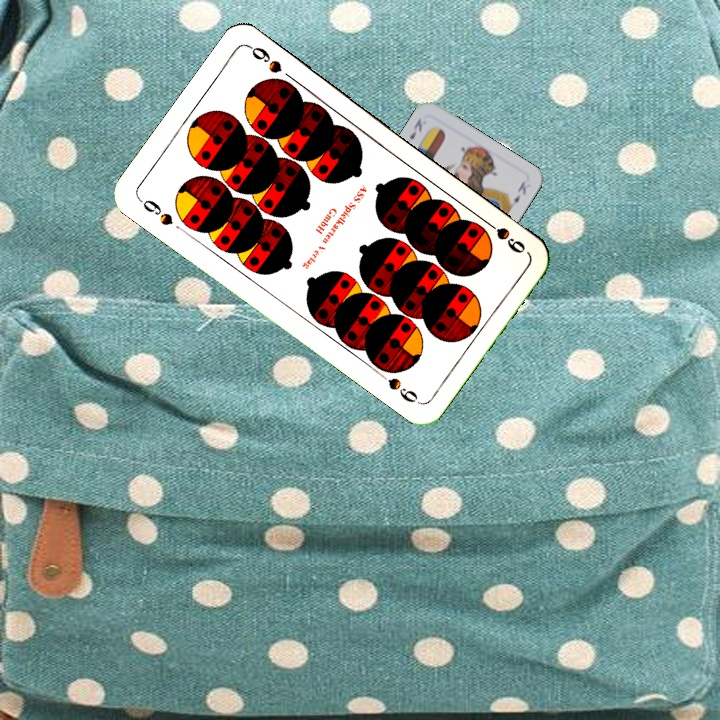EK: (405, 114, 425, 142)
S9: (478, 214, 528, 257), (134, 194, 176, 228)
